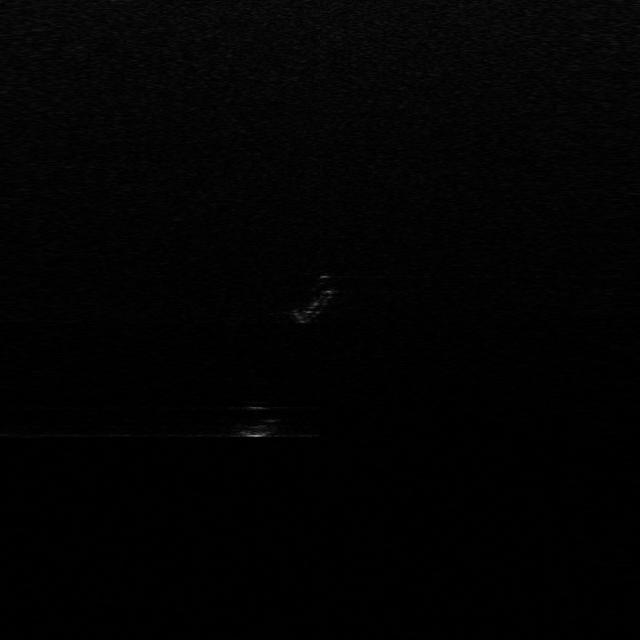ball: (227, 401, 282, 436)
tyre: (293, 275, 332, 324)
